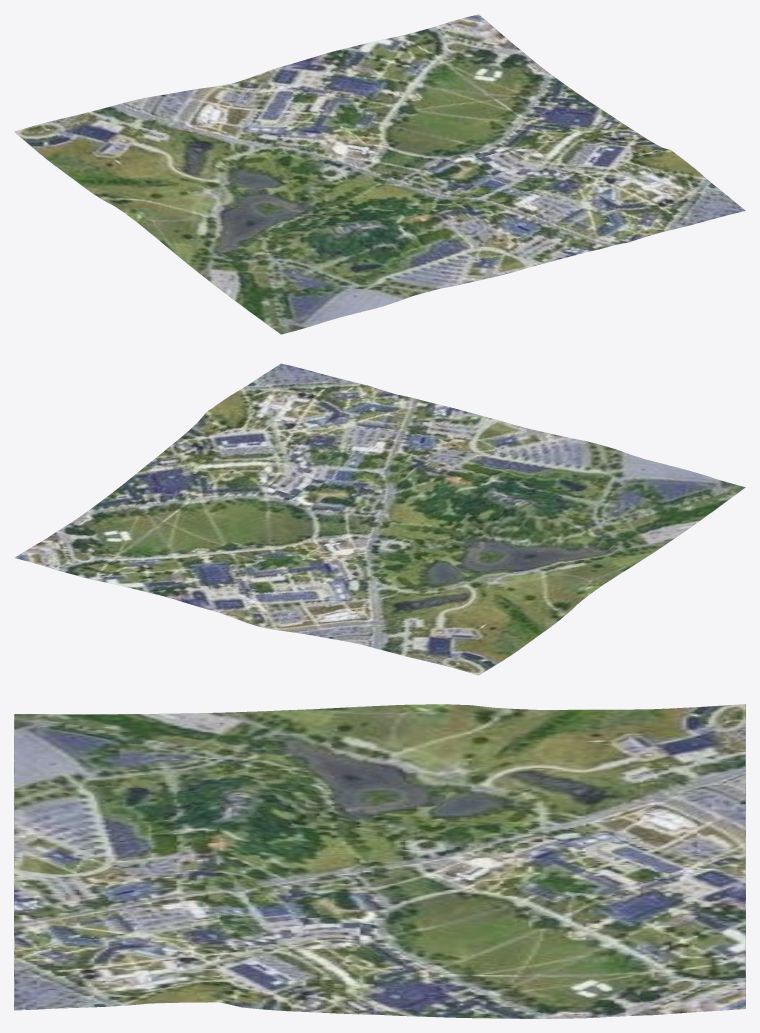
3 views of the same model, one above another, from view 1: azimuth 30°, elevation 25°; view 2: azimuth 150°, elevation 25°; view 3: azimuth 270°, elevation 25° (orthographic). The views are drawn at different scales.
Size of the model in its own units: 975 by 36.16 by 971.
1 material, 1 textured.
